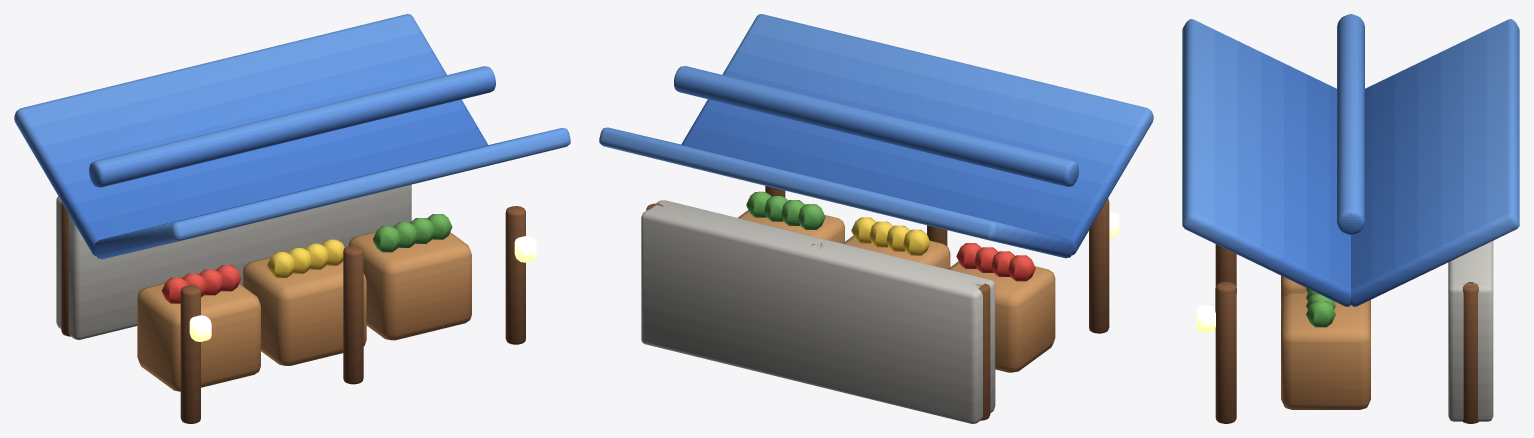
The model's file is marketB.glb.
3 views of the same model, side by side, from view 1: azimuth 30°, elevation 25°; view 2: azimuth 150°, elevation 25°; view 3: azimuth 270°, elevation 25° (orthographic). The views are drawn at different scales.
Parts seen in each view (by area): view 1: marketB; view 2: marketB; view 3: marketB.
Part boxes in pixels (x1=…): marketB: x1=14, y1=14, x2=570, y2=423; marketB: x1=599, y1=14, x2=1153, y2=423; marketB: x1=1182, y1=14, x2=1519, y2=423.
Bounding box in the file's own units: 1.88 × 1.01 × 1.35.
1 material, 1 textured.
